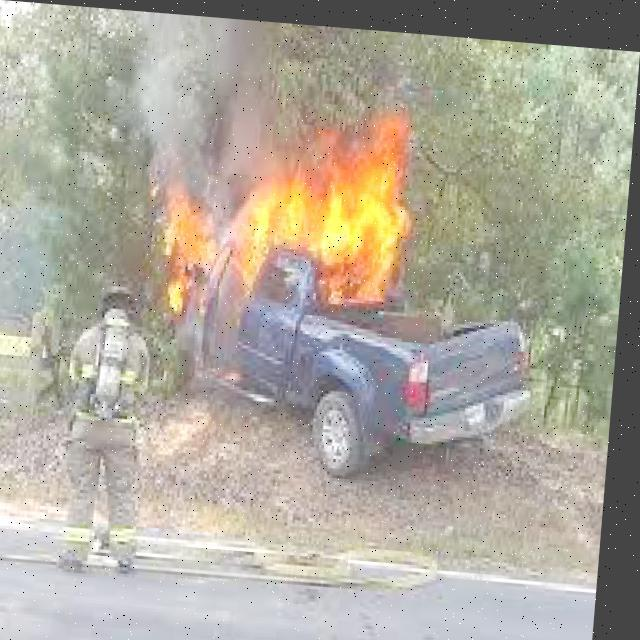Fire: (156, 72, 428, 319)
